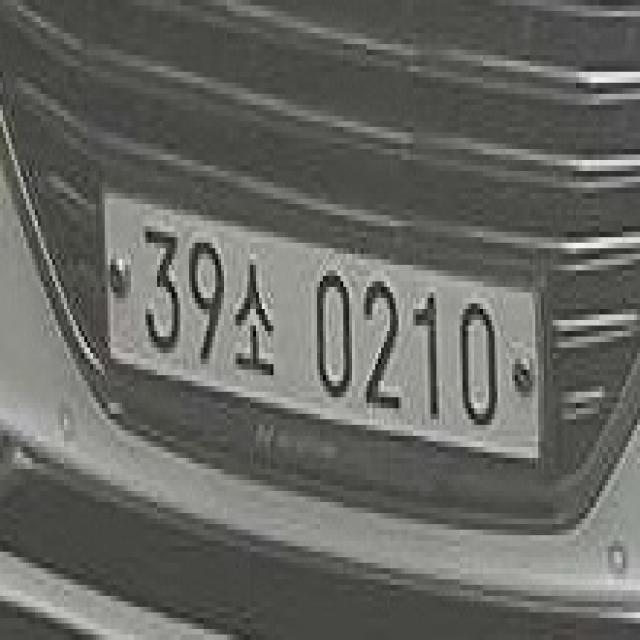0: (457, 292, 500, 430), (314, 270, 355, 403)
1: (413, 287, 442, 419)
2: (358, 270, 401, 414)
3: (146, 221, 183, 353)
9: (186, 232, 224, 370)
license_plate: (99, 171, 547, 480)
so: (227, 254, 276, 380)
